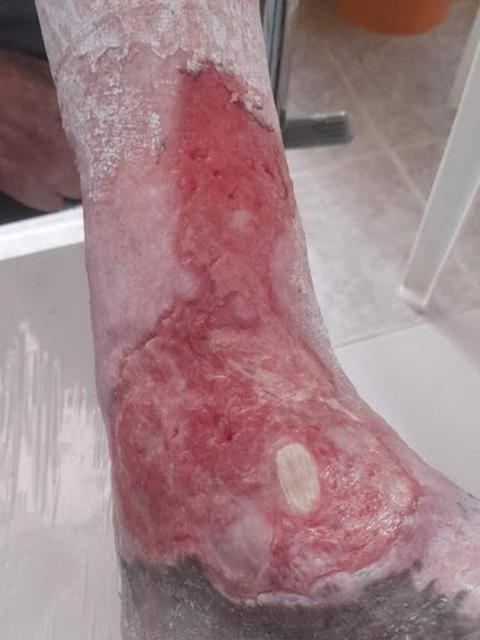wound: (108, 58, 424, 601)
